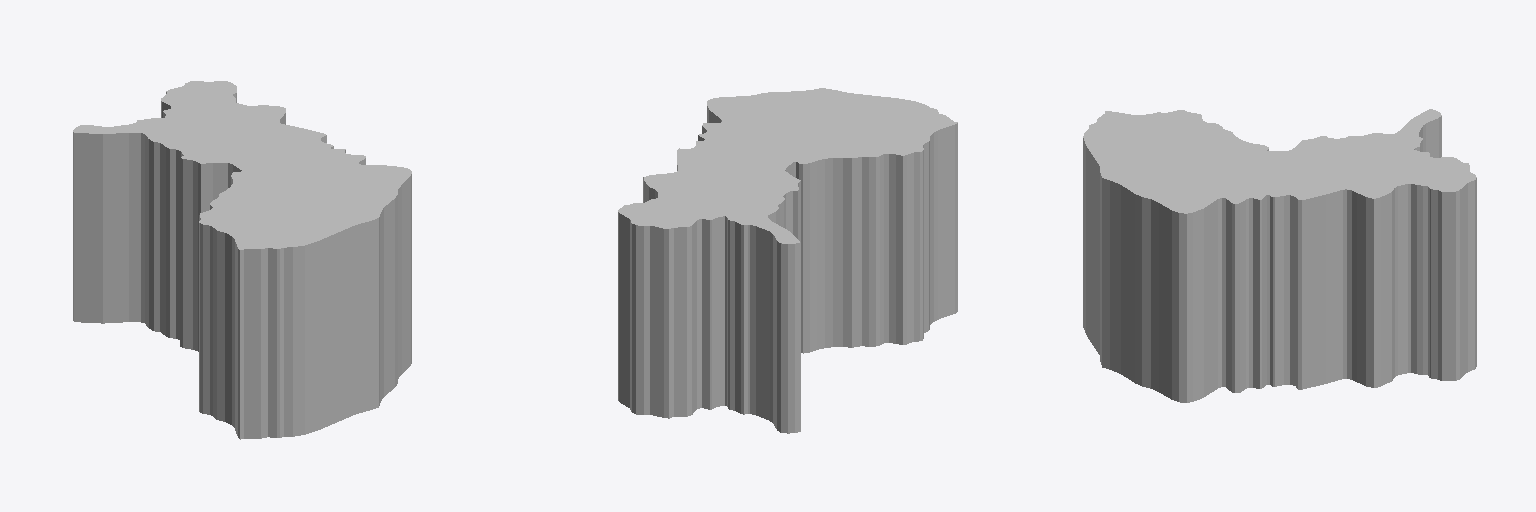
3 renders of one model, left to right at view 1: azimuth 30°, elevation 25°; view 2: azimuth 150°, elevation 25°; view 3: azimuth 270°, elevation 25°, orthographic.
Parts seen in each view (by area): view 1: FI.002_CUCurve.1800; view 2: FI.002_CUCurve.1800; view 3: FI.002_CUCurve.1800.
Boxes of the visible parts, x1,y1,x2,y2 form: FI.002_CUCurve.1800: [73, 81, 411, 439]; FI.002_CUCurve.1800: [618, 88, 957, 433]; FI.002_CUCurve.1800: [1083, 109, 1476, 402].
Bounding box in the file's own units: 0.0594 × 0.05 × 0.0942.